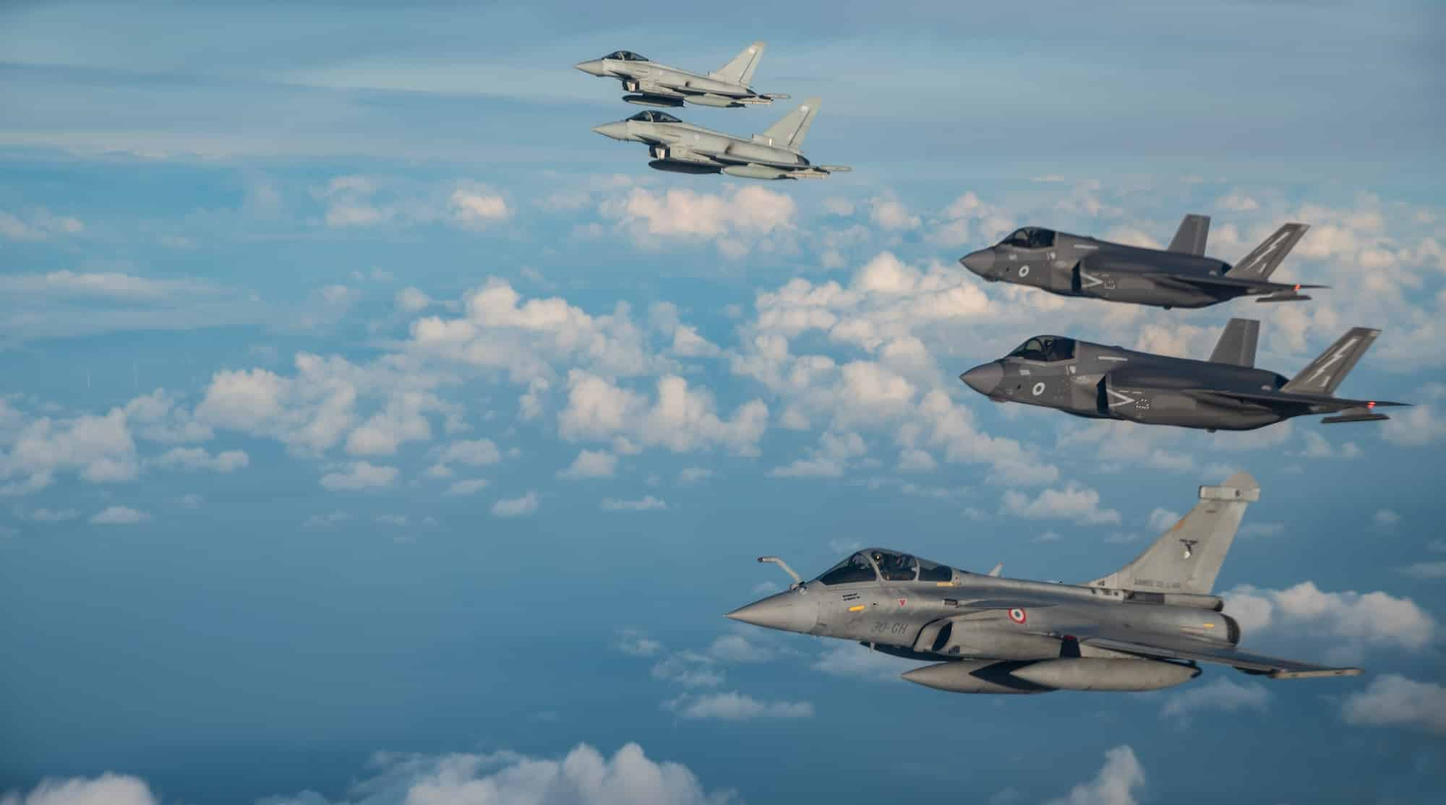F35: (964, 317, 1420, 431), (961, 211, 1330, 310)
Rafale: (726, 478, 1375, 693)
